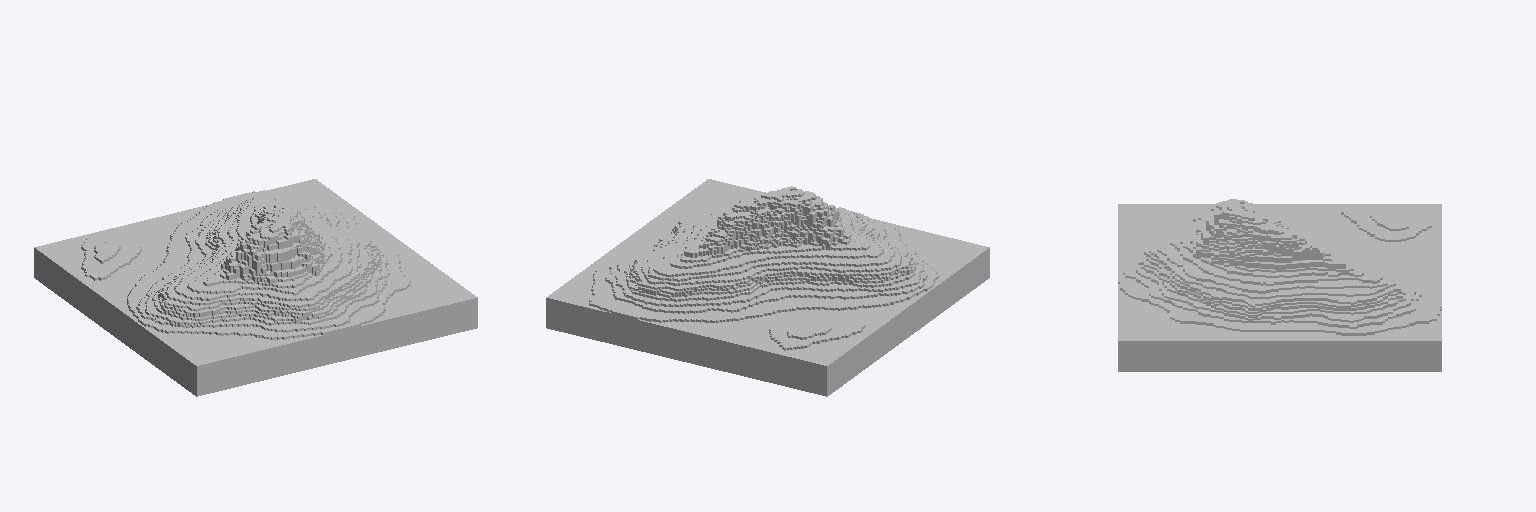
The model's file is Map (22).obj.
The picture shows the model from 3 angles: view 1: azimuth 30°, elevation 25°; view 2: azimuth 150°, elevation 25°; view 3: azimuth 270°, elevation 25°; orthographic projection.
Visible parts, largest first — view 1: ALL MAP!!!!!!!!!!!-19; view 2: ALL MAP!!!!!!!!!!!-19; view 3: ALL MAP!!!!!!!!!!!-19.
Part boxes in pixels (left/top/right/bottom): ALL MAP!!!!!!!!!!!-19: left=34, top=179, right=477, bottom=396; ALL MAP!!!!!!!!!!!-19: left=546, top=179, right=989, bottom=396; ALL MAP!!!!!!!!!!!-19: left=1118, top=199, right=1441, bottom=371.
Size of the model in its own units: 125 by 40 by 125.